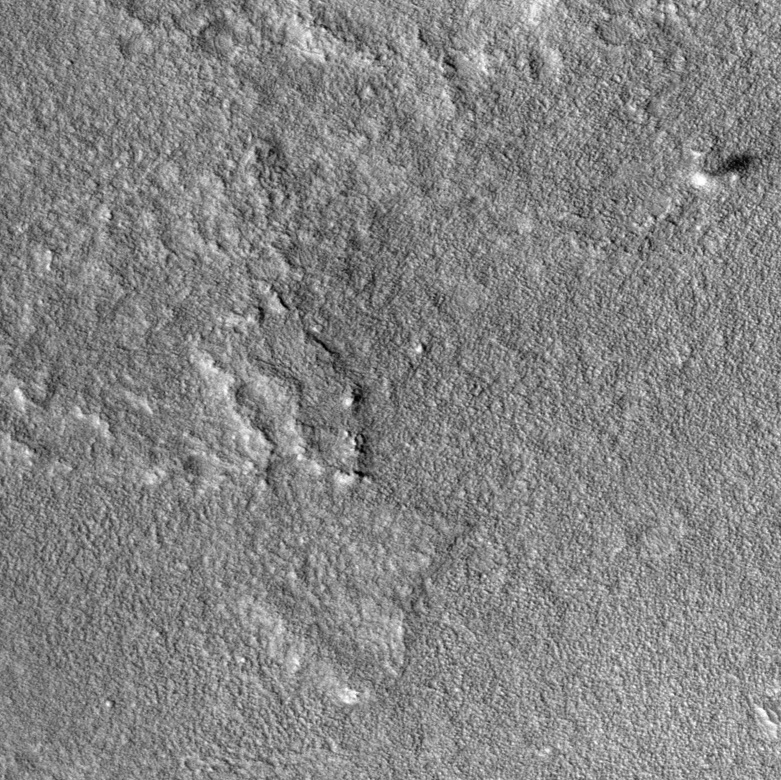dust_devil: (688, 148, 763, 194)
